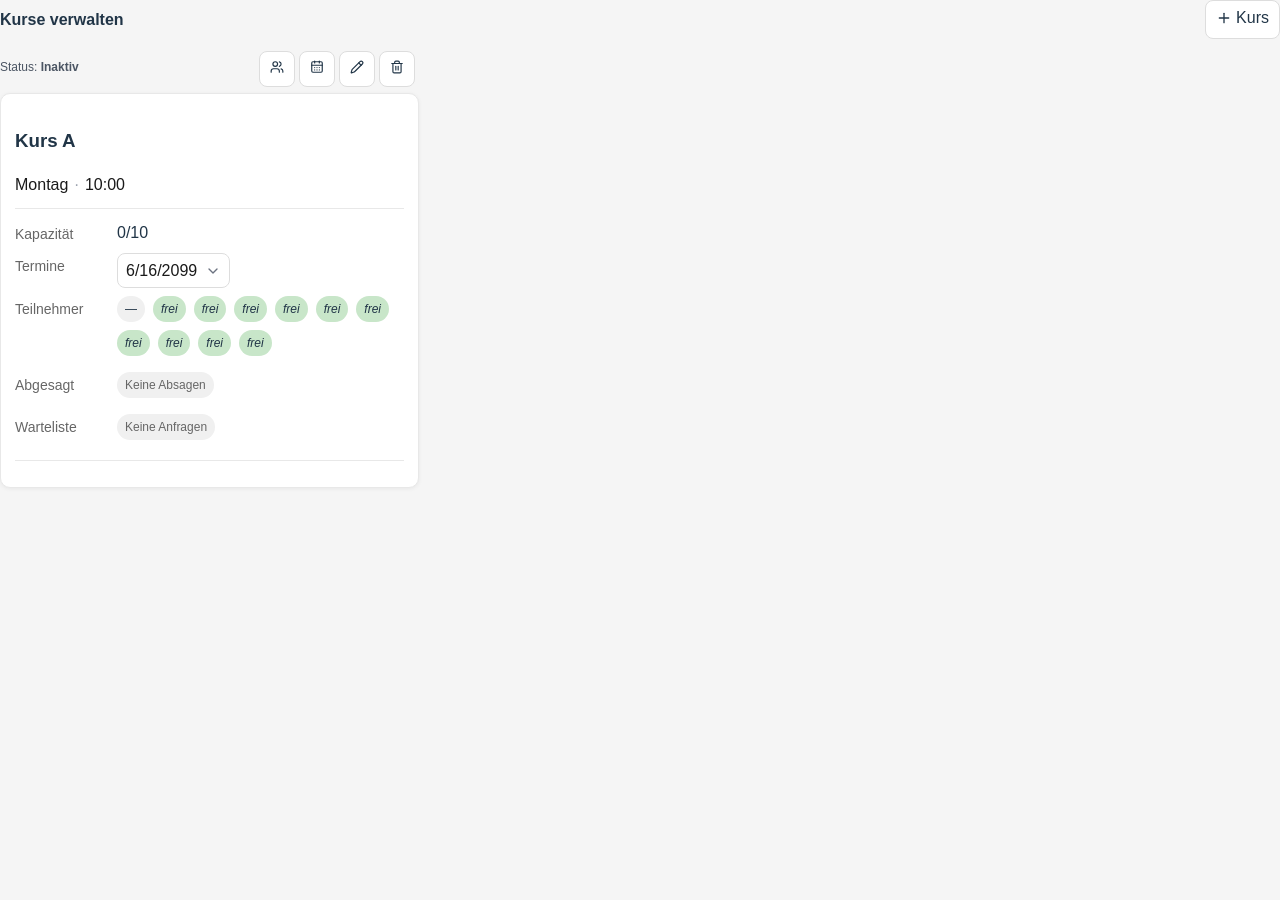
Test case: CourseList › schließt den Lösch-Dialog mit Escape
The width and height of the screenshot is (1280, 900).
Click the button named "kurs löschen kurs a" at (397, 69), box [379,51,415,87]
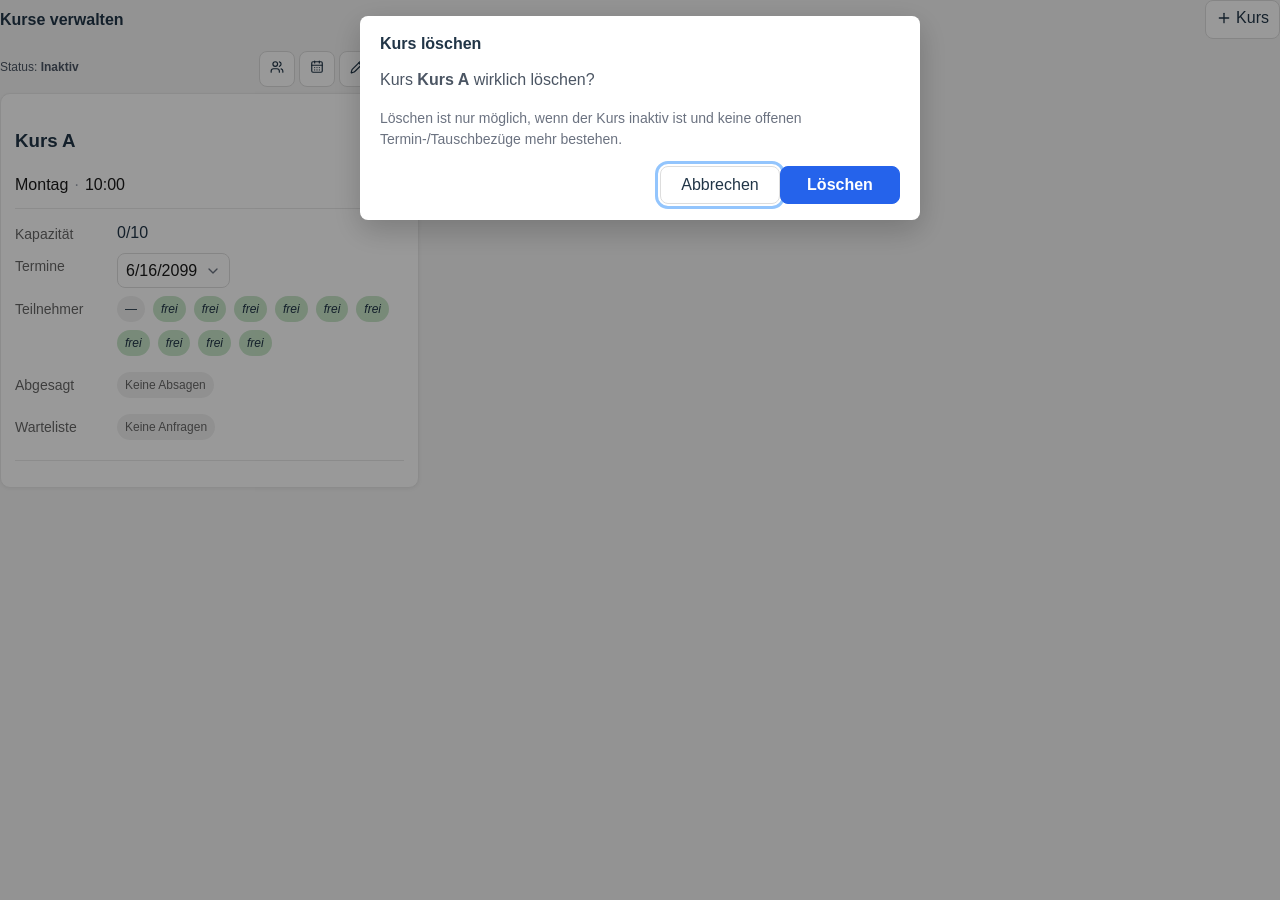
Expected: the dialog labelled "Kurs löschen" is shown
Press Escape
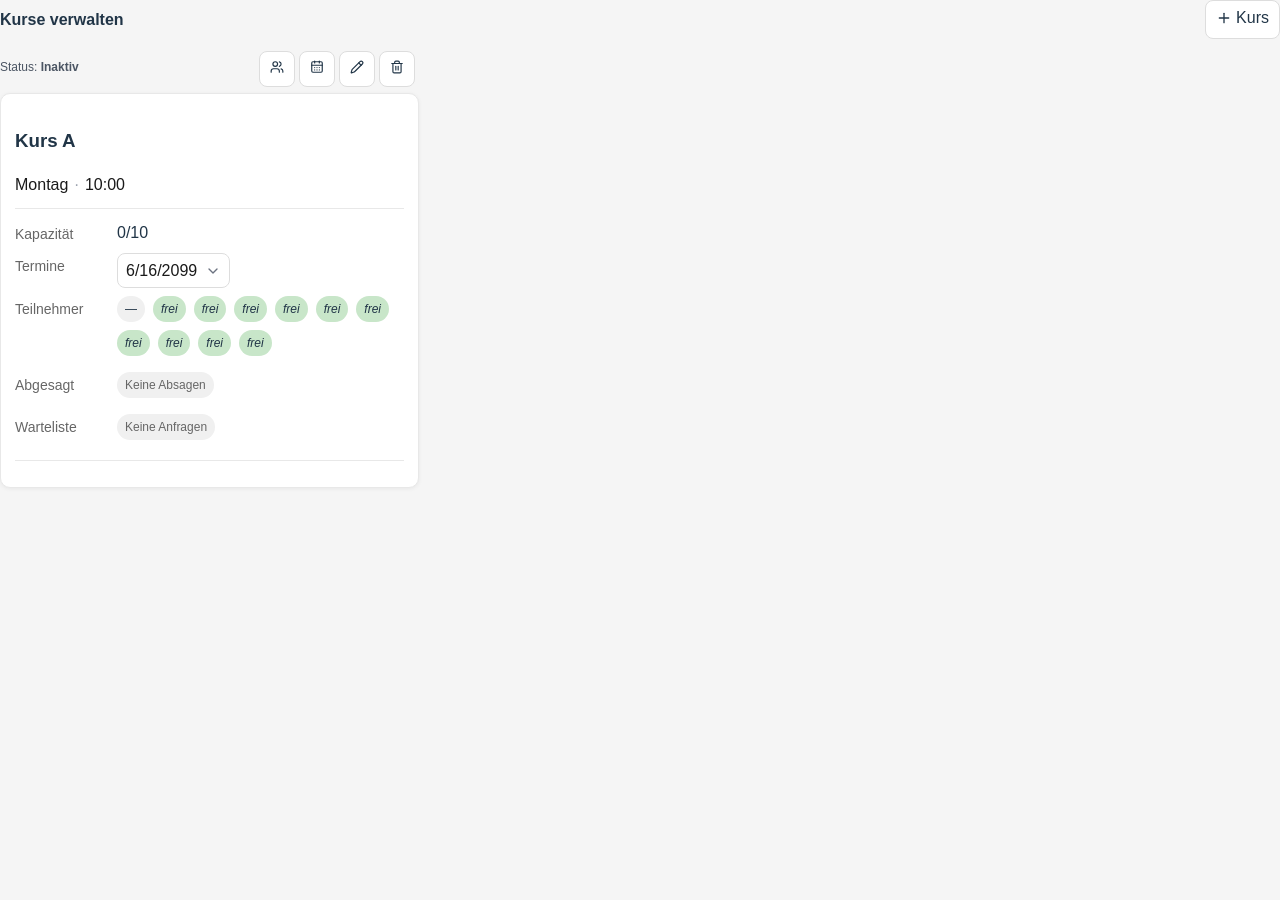
Expected: the heading labelled "Kurs löschen" is gone
